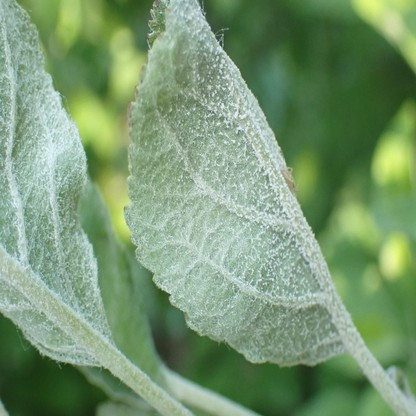powdery_mildew: (127, 2, 344, 362), (1, 0, 109, 364)
